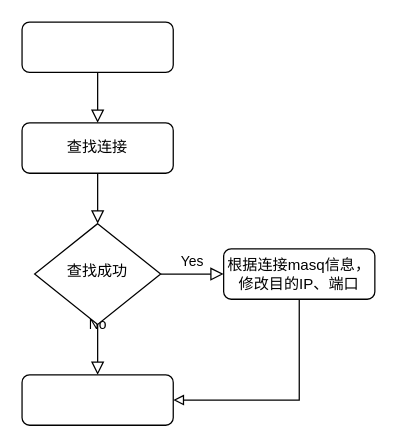
This 397x447 diagram has some shape labels left out. Here are the shapes that lost their labels. From the top down, the centre of each, then its label:
At (x=97, y=46): "ingress流程".
At (x=97, y=399): "内核协议栈".
